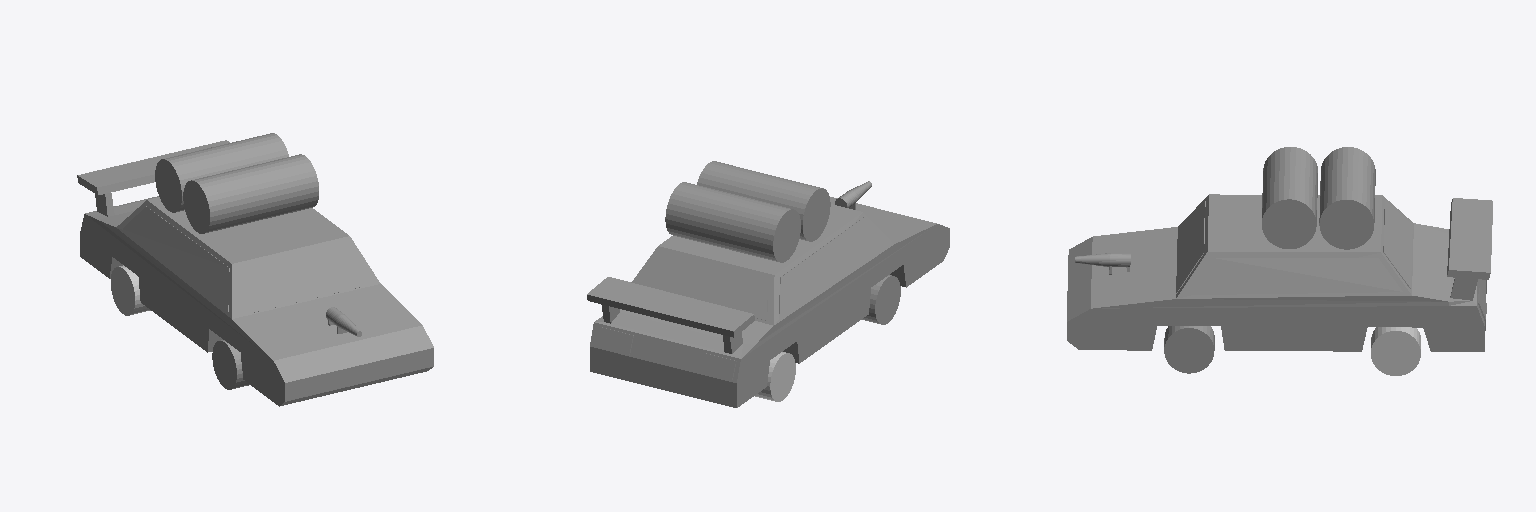
Rendered from car.obj.
3 views of the same model, side by side, from view 1: azimuth 30°, elevation 25°; view 2: azimuth 150°, elevation 25°; view 3: azimuth 270°, elevation 25° (orthographic).
Visible parts, largest first — view 1: Car_Cube, batteries, Window_Plane, Plane_Plane.002, Cylinder.001, Wheels_Cylinder, Gun_Cylinder.003; view 2: Car_Cube, batteries, Window_Plane, Plane_Plane.002, TailLights_Plane.001, Wheels_Cylinder, Cylinder.001; view 3: Car_Cube, batteries, Plane_Plane.002, Window_Plane, Cylinder.001, Wheels_Cylinder, Gun_Cylinder.003.
Part boxes in pixels (bbox=[...]): Car_Cube: bbox=[77, 140, 433, 406]; batteries: bbox=[155, 133, 318, 233]; Window_Plane: bbox=[239, 243, 371, 315]; Plane_Plane.002: bbox=[123, 206, 229, 311]; Cylinder.001: bbox=[111, 265, 150, 315]; Wheels_Cylinder: bbox=[212, 340, 249, 389]; Gun_Cylinder.003: bbox=[326, 307, 361, 336]; Car_Cube: bbox=[587, 197, 949, 407]; batteries: bbox=[665, 161, 830, 262]; Window_Plane: bbox=[639, 251, 767, 320]; Plane_Plane.002: bbox=[779, 217, 888, 318]; TailLights_Plane.001: bbox=[598, 327, 736, 379]; Wheels_Cylinder: bbox=[862, 275, 900, 324]; Cylinder.001: bbox=[755, 352, 795, 401]; Car_Cube: bbox=[1067, 194, 1492, 351]; batteries: bbox=[1262, 147, 1375, 249]; Plane_Plane.002: bbox=[1185, 258, 1402, 294]; Window_Plane: bbox=[1176, 200, 1412, 293]; Cylinder.001: bbox=[1371, 327, 1420, 375]; Wheels_Cylinder: bbox=[1164, 326, 1214, 373]; Gun_Cylinder.003: bbox=[1075, 253, 1130, 274].
Size of the model in its own units: 1.75 by 1.82 by 4.24.